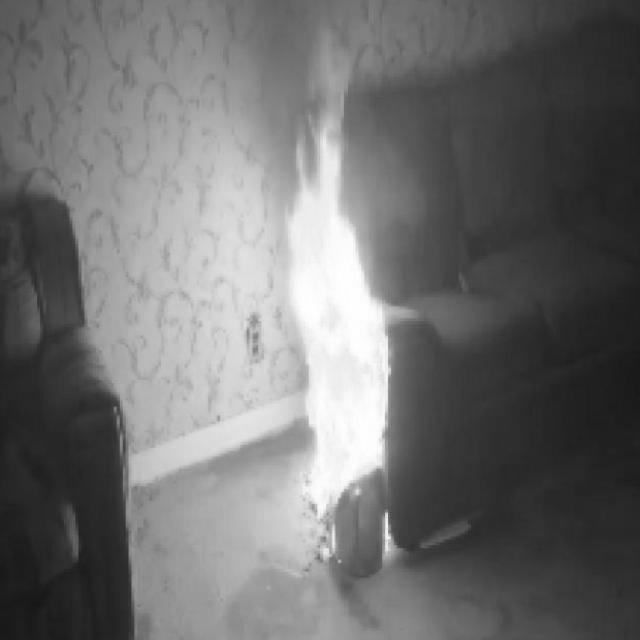smoke: (280, 29, 393, 576)
